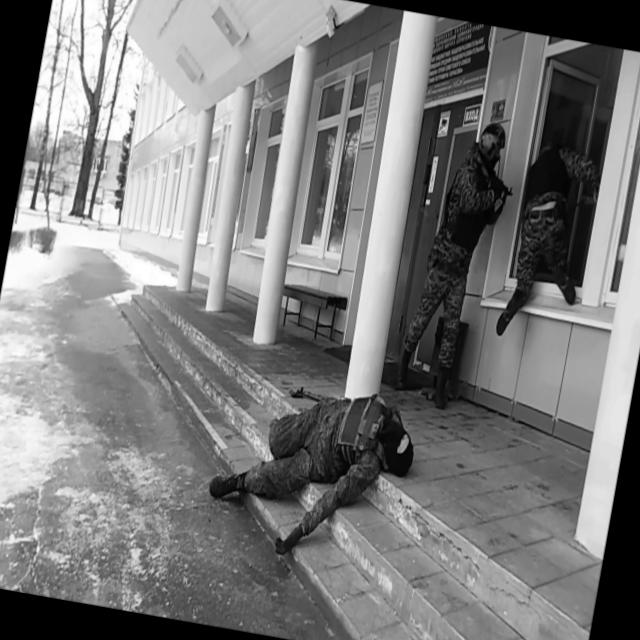gun: (469, 160, 518, 212)
person: (198, 364, 424, 578), (392, 110, 514, 412), (495, 136, 604, 349)
person with a gun: (392, 110, 526, 416)
